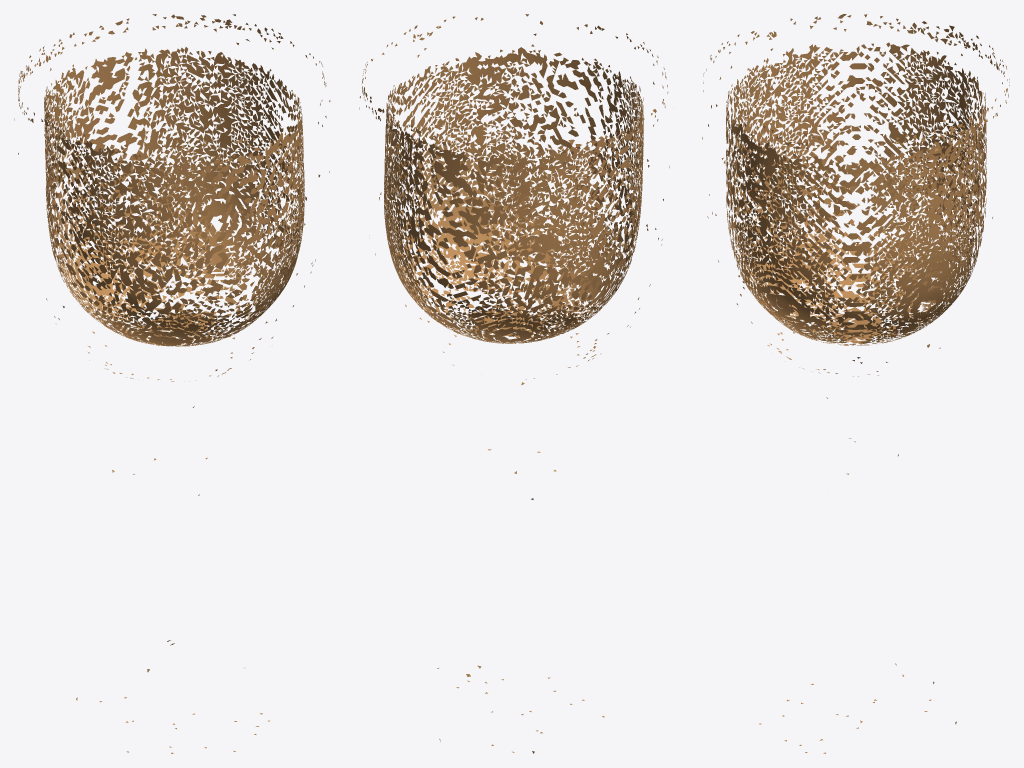
The model's file is dragonChalice.glb.
3 views of the same model, side by side, from view 1: azimuth 30°, elevation 25°; view 2: azimuth 150°, elevation 25°; view 3: azimuth 270°, elevation 25° (orthographic).
Visible parts, largest first — view 1: dragonChalice; view 2: dragonChalice; view 3: dragonChalice.
Boxes of the visible parts, box(x1,y1,x2,y2) form: dragonChalice: box(14, 14, 330, 753); dragonChalice: box(359, 14, 669, 753); dragonChalice: box(702, 14, 1009, 753).
Size of the model in its own units: 0.1272 by 0.2952 by 0.1266.
